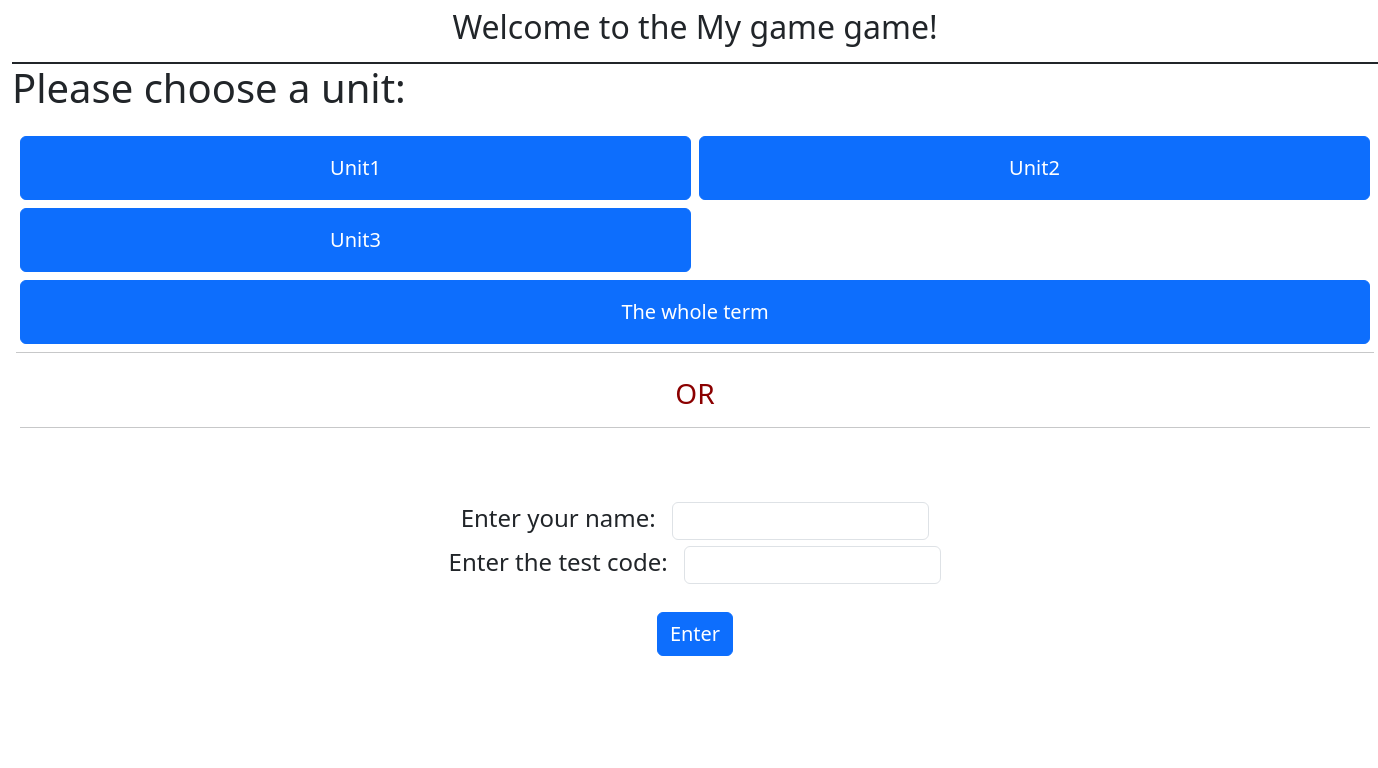
game settings › displays units and test type
Expected: the button "Unit1" is shown, [20,136,691,200]
Step 1. Click the button "The whole term" → {"x": 695, "y": 312}, box [20,280,1370,344]
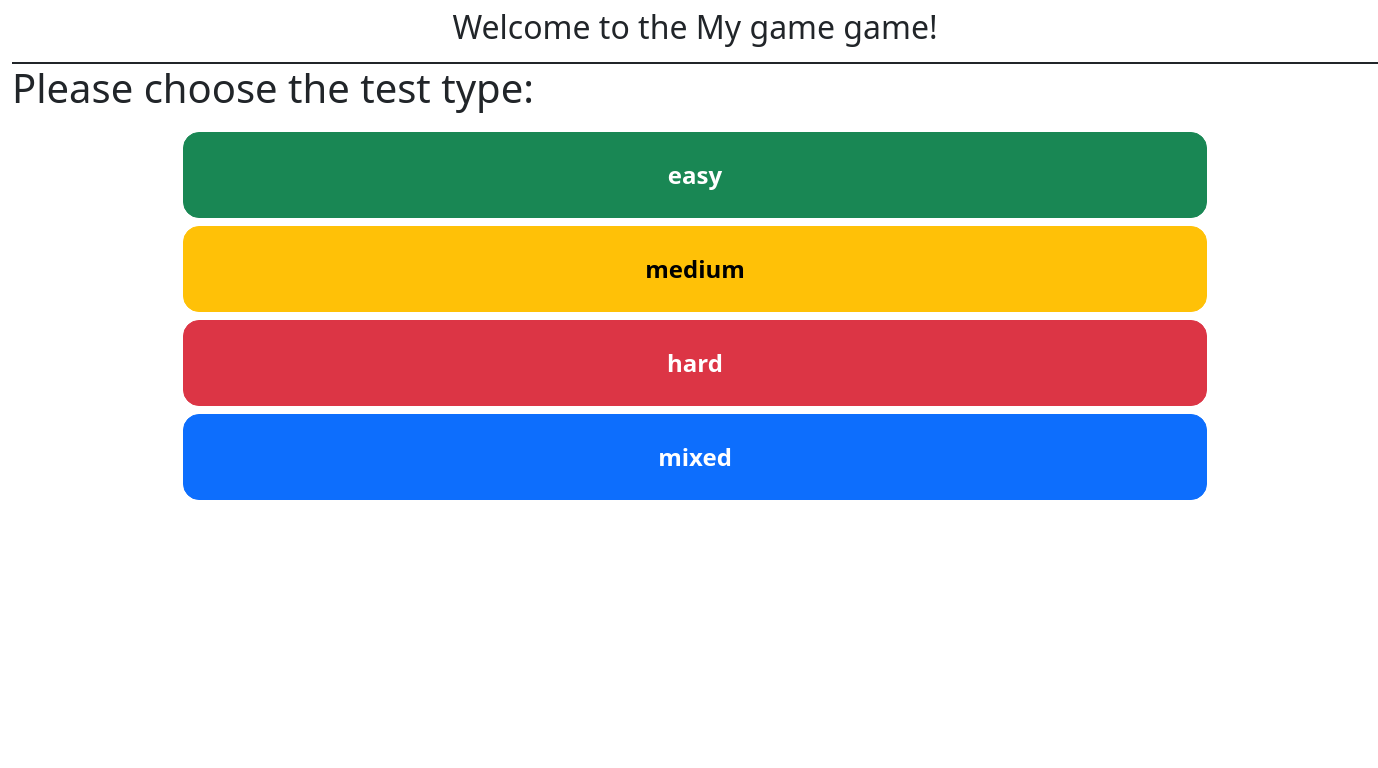
Result: the button "easy" is shown at [183,132,1207,218]
Result: the button "medium" is shown at [183,226,1207,312]
Result: the button "hard" is shown at [183,320,1207,406]
